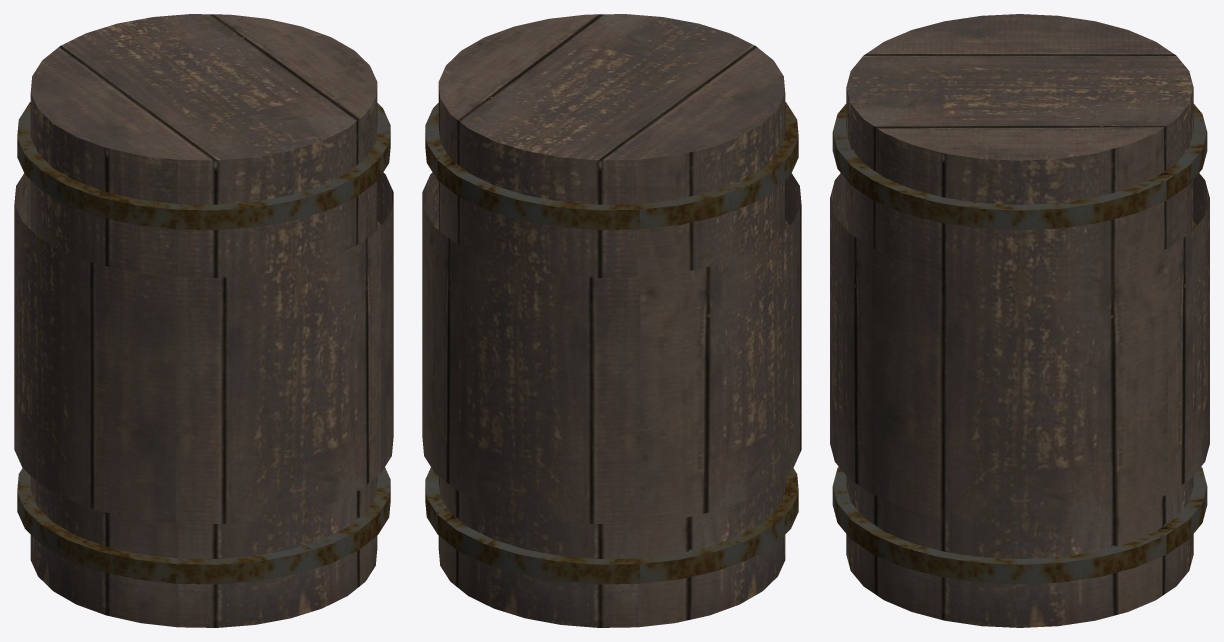
Rendered from water_barrel.glb.
3 views of the same model, side by side, from view 1: azimuth 30°, elevation 25°; view 2: azimuth 150°, elevation 25°; view 3: azimuth 270°, elevation 25° (orthographic).
Visible parts, largest first — view 1: Body; view 2: Body; view 3: Body.
Part boxes in pixels (x1,y1,x2,y2): Body: (14,14,393,627); Body: (422,14,801,627); Body: (830,14,1209,627).
Size of the model in its own units: 0.7 by 0.95 by 0.7.
3 materials, 2 textured.
